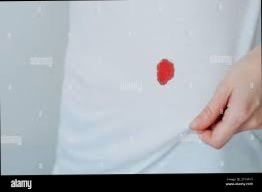blood: (156, 58, 175, 86)
